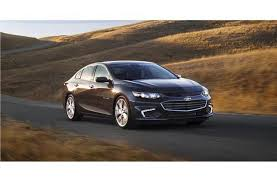car: (61, 57, 216, 129)
